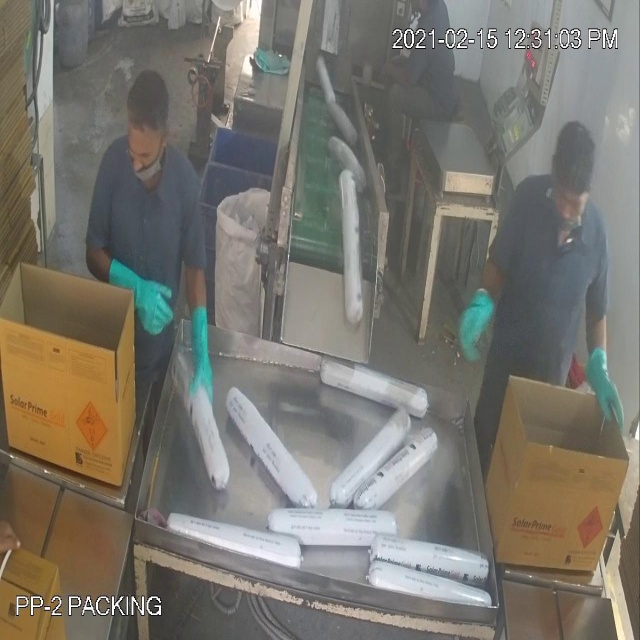Guantes: (97, 252, 182, 360), (449, 260, 500, 376), (579, 333, 632, 441), (188, 279, 223, 419)
